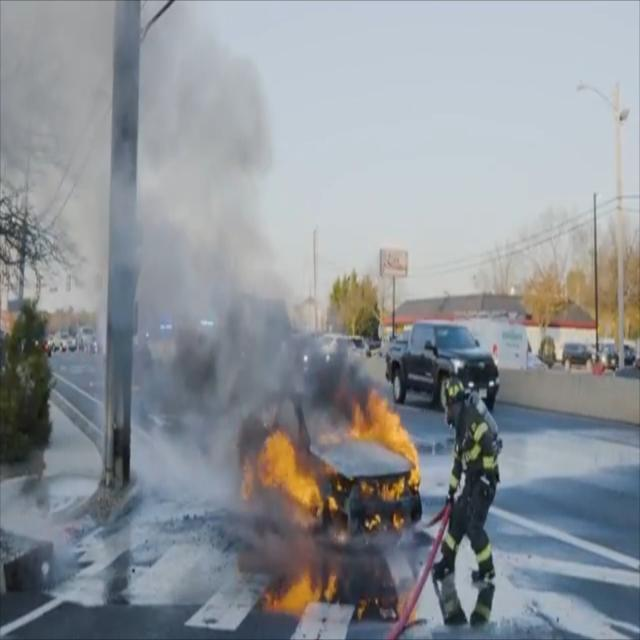fire: (238, 374, 424, 540), (273, 568, 408, 614)
